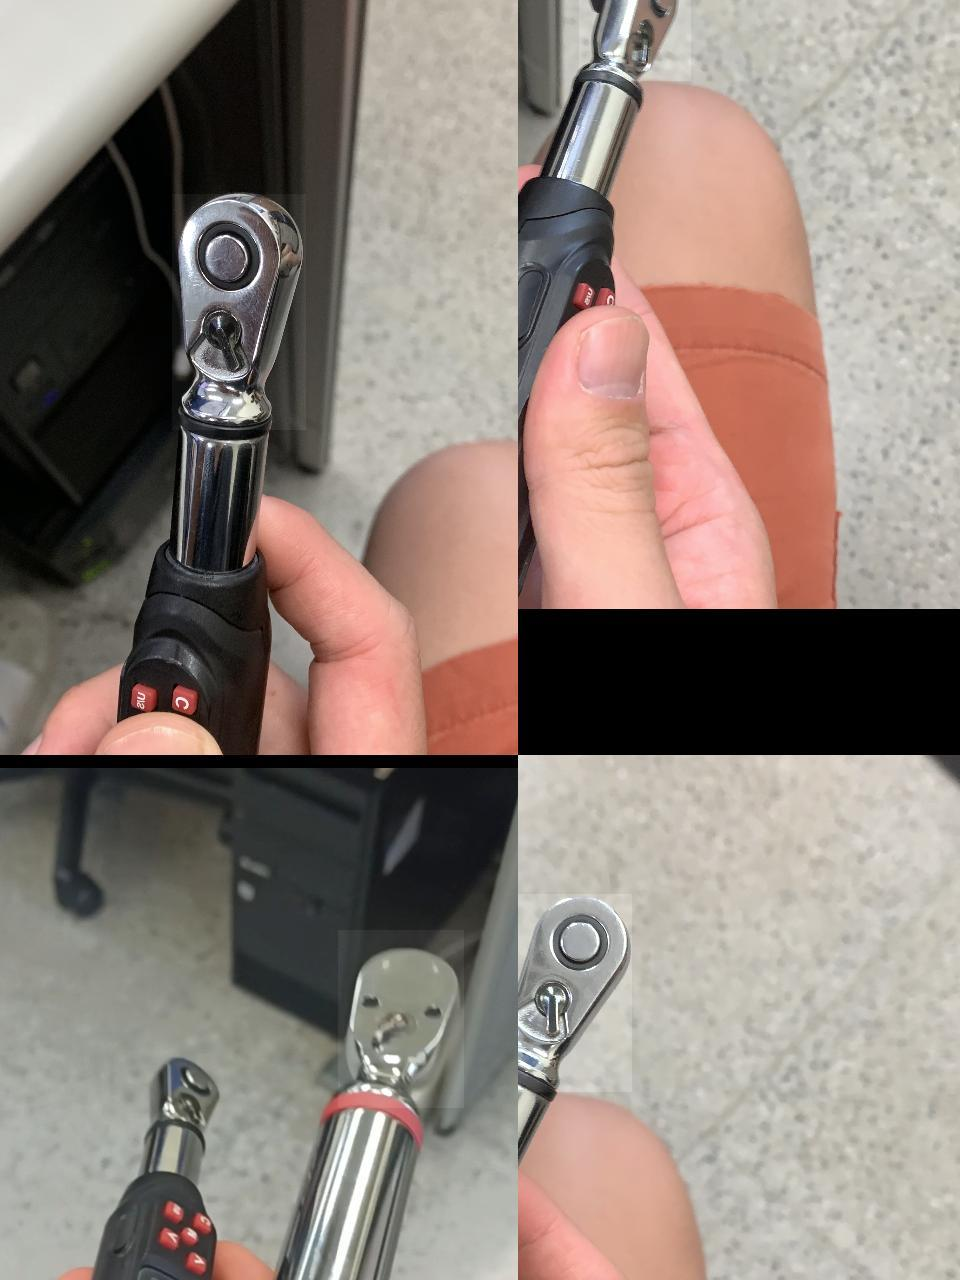Tool: (171, 194, 305, 430), (337, 930, 463, 1108), (518, 894, 631, 1092), (578, 0, 690, 81), (148, 1049, 238, 1133)
